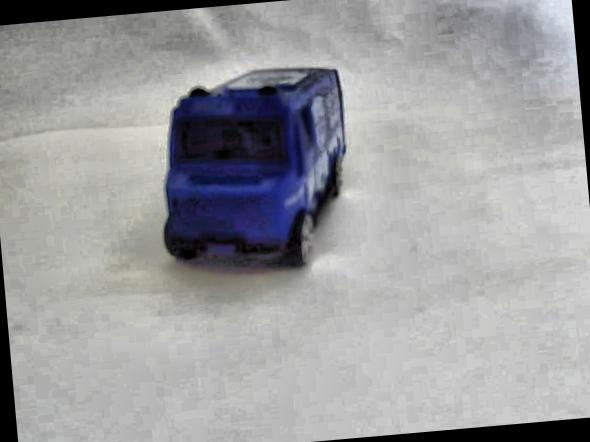police car: (147, 58, 364, 292)
